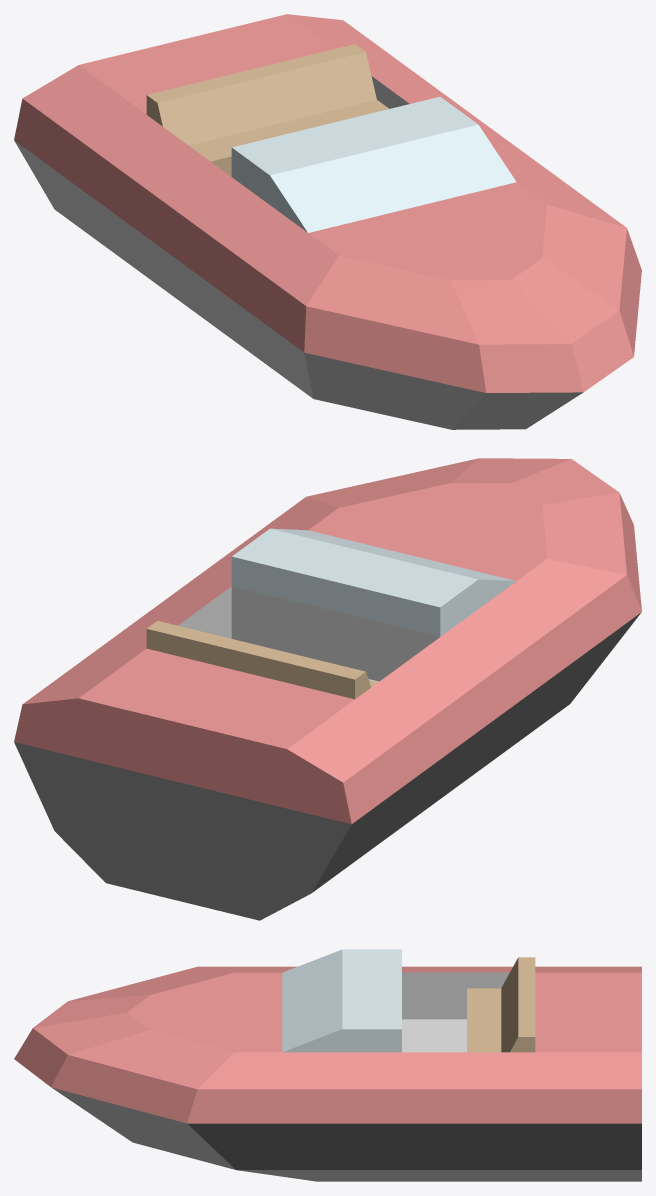
The model's file is LargeSpeedBoat2.fbx.
The picture shows the model from 3 angles, top to bottom: view 1: azimuth 30°, elevation 25°; view 2: azimuth 150°, elevation 25°; view 3: azimuth 270°, elevation 25°; orthographic projection. The views are drawn at different scales.
Visible parts, largest first — view 1: watercraftPack_016; view 2: watercraftPack_016; view 3: watercraftPack_016.
Part boxes in pixels (box(x1,y1,x2,y2)): watercraftPack_016: box(14, 14, 641, 429); watercraftPack_016: box(14, 458, 641, 920); watercraftPack_016: box(14, 949, 641, 1181).
Size of the model in its own units: 178 by 367 by 105.
